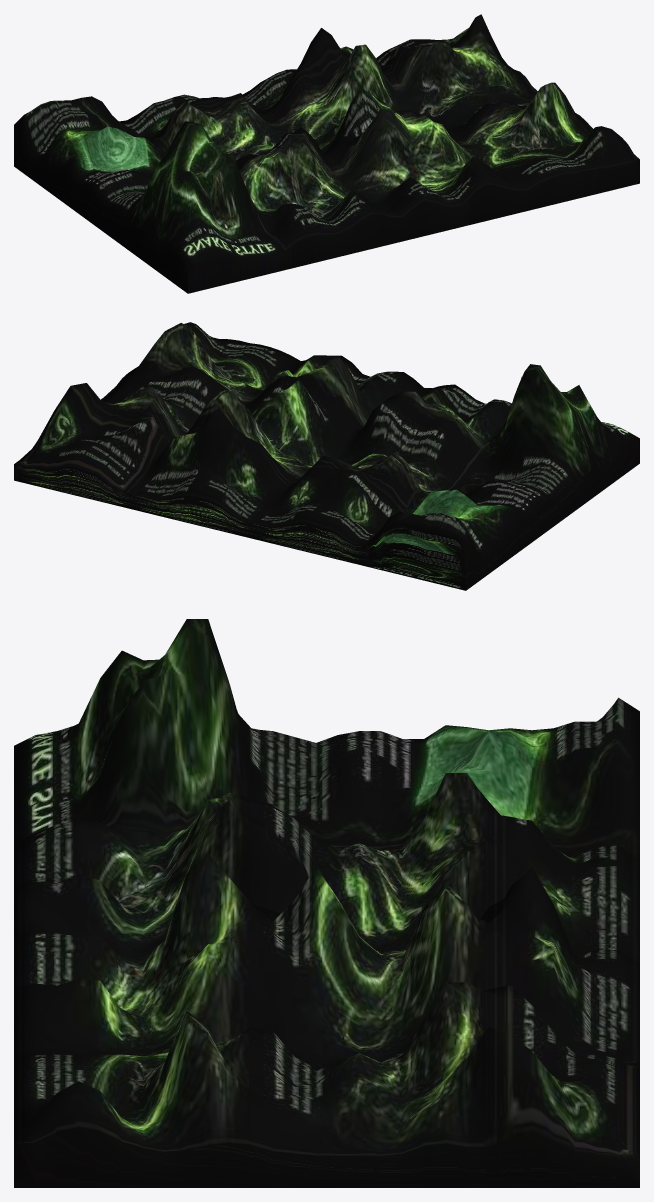
File: CUL_34_Snake.glb
3 views of the same model, one above another, from view 1: azimuth 30°, elevation 25°; view 2: azimuth 150°, elevation 25°; view 3: azimuth 270°, elevation 25° (orthographic). The views are drawn at different scales.
Visible parts, largest first — view 1: CUL_34_Snake; view 2: CUL_34_Snake; view 3: CUL_34_Snake.
Part boxes in pixels (x1,y1,x2,y2): CUL_34_Snake: (14,14,639,293); CUL_34_Snake: (14,322,639,590); CUL_34_Snake: (14,619,639,1187).
Bounding box in the file's own units: 2 × 0.51 × 1.33.
1 material, 1 textured.
